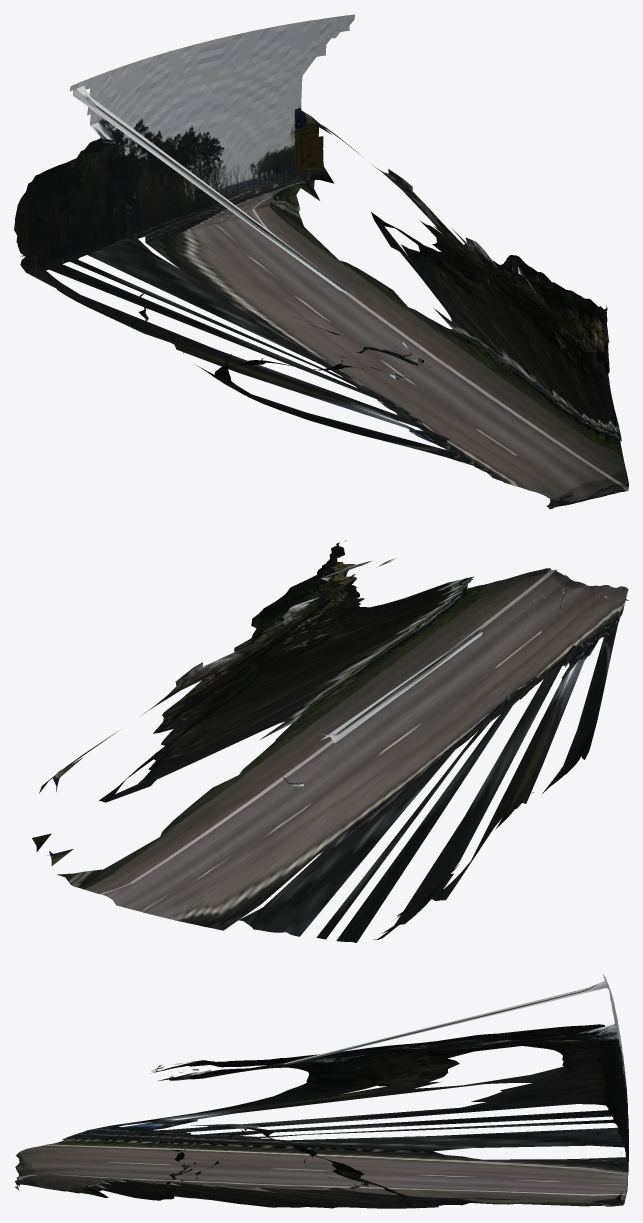
The picture shows the model from 3 angles, top to bottom: view 1: azimuth 30°, elevation 25°; view 2: azimuth 150°, elevation 25°; view 3: azimuth 270°, elevation 25°; orthographic projection. The views are drawn at different scales.
Visible parts, largest first — view 1: defaultobject; view 2: defaultobject; view 3: defaultobject.
Boxes of the visible parts, <box> form: defaultobject: <box>14,14,628,509</box>; defaultobject: <box>32,540,628,942</box>; defaultobject: <box>14,973,628,1208</box>.
Bounding box in the file's own units: 23.8 × 12.33 × 44.34.
1 material, 1 textured.
